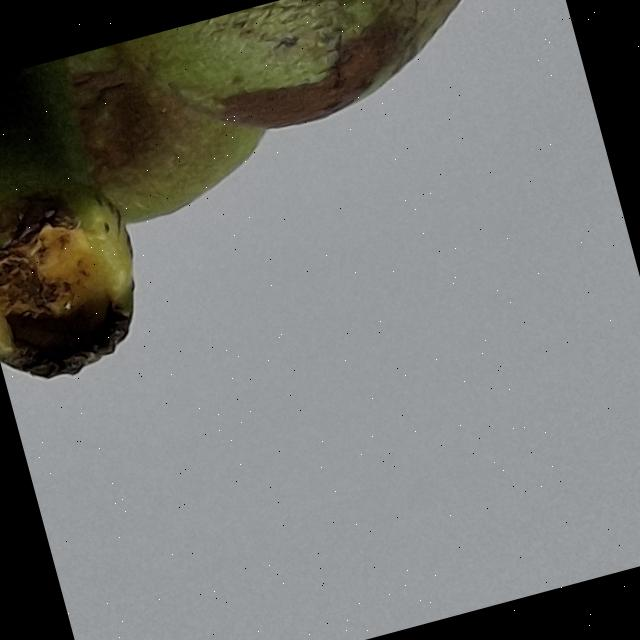mangosteen: (0, 0, 634, 422)
